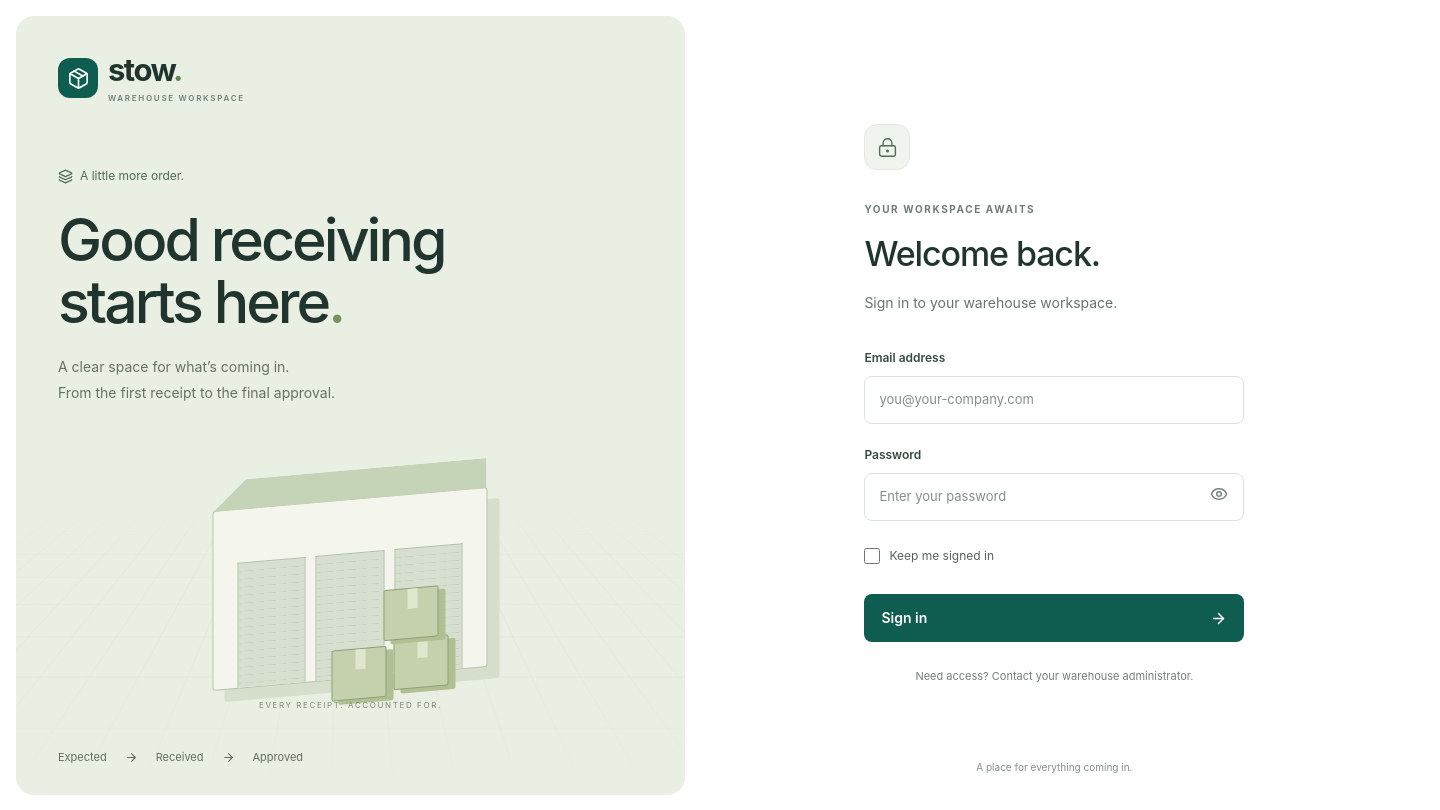
Test: login feedback and role protection › submits only the locked login payload and displays nested server errors
Type "operator@example.test" into the field labelled "Email address" at coordinates (1054, 400), box [864, 376, 1244, 424]
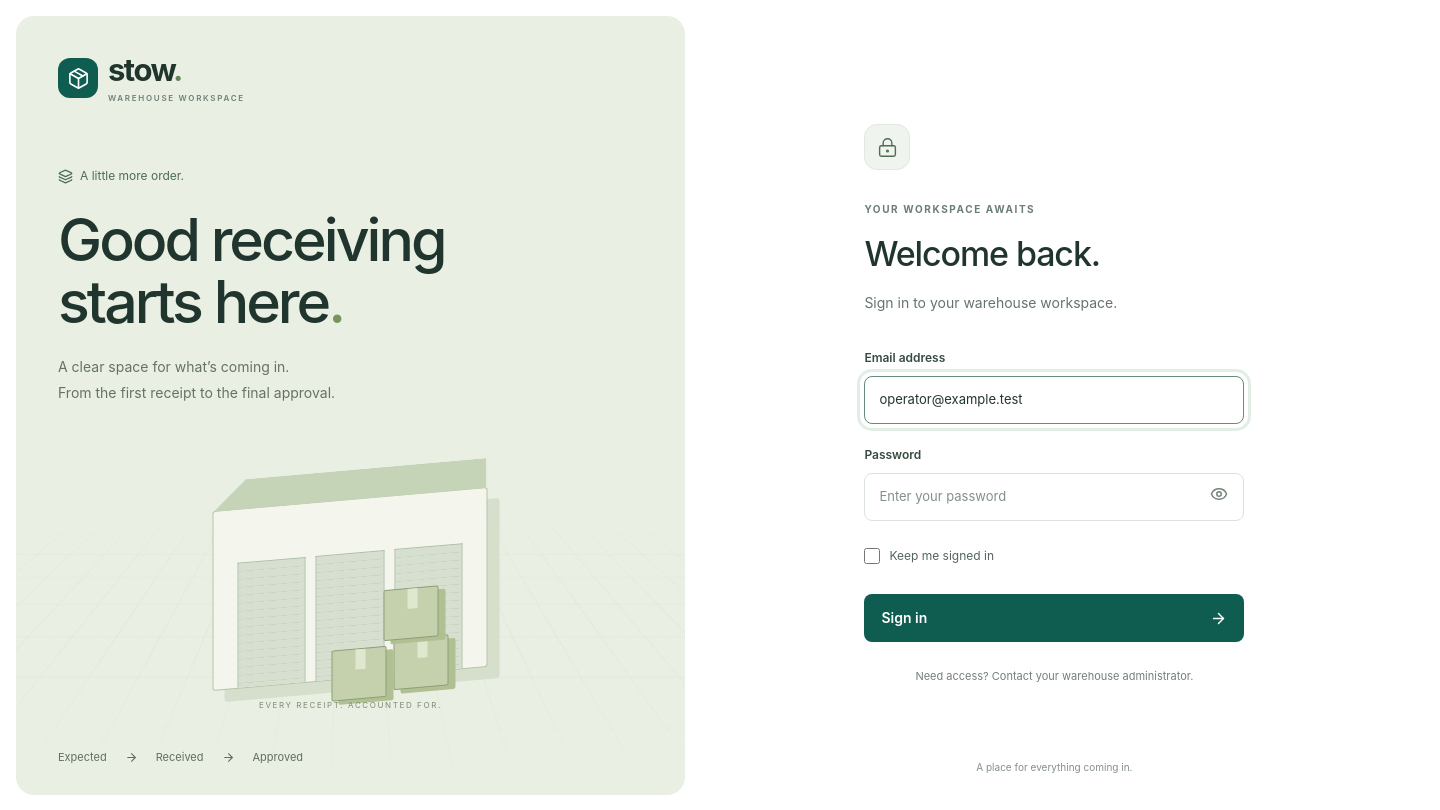
Type "example-input" into the password field labelled "Password" at coordinates (1054, 497), box [864, 473, 1244, 521]
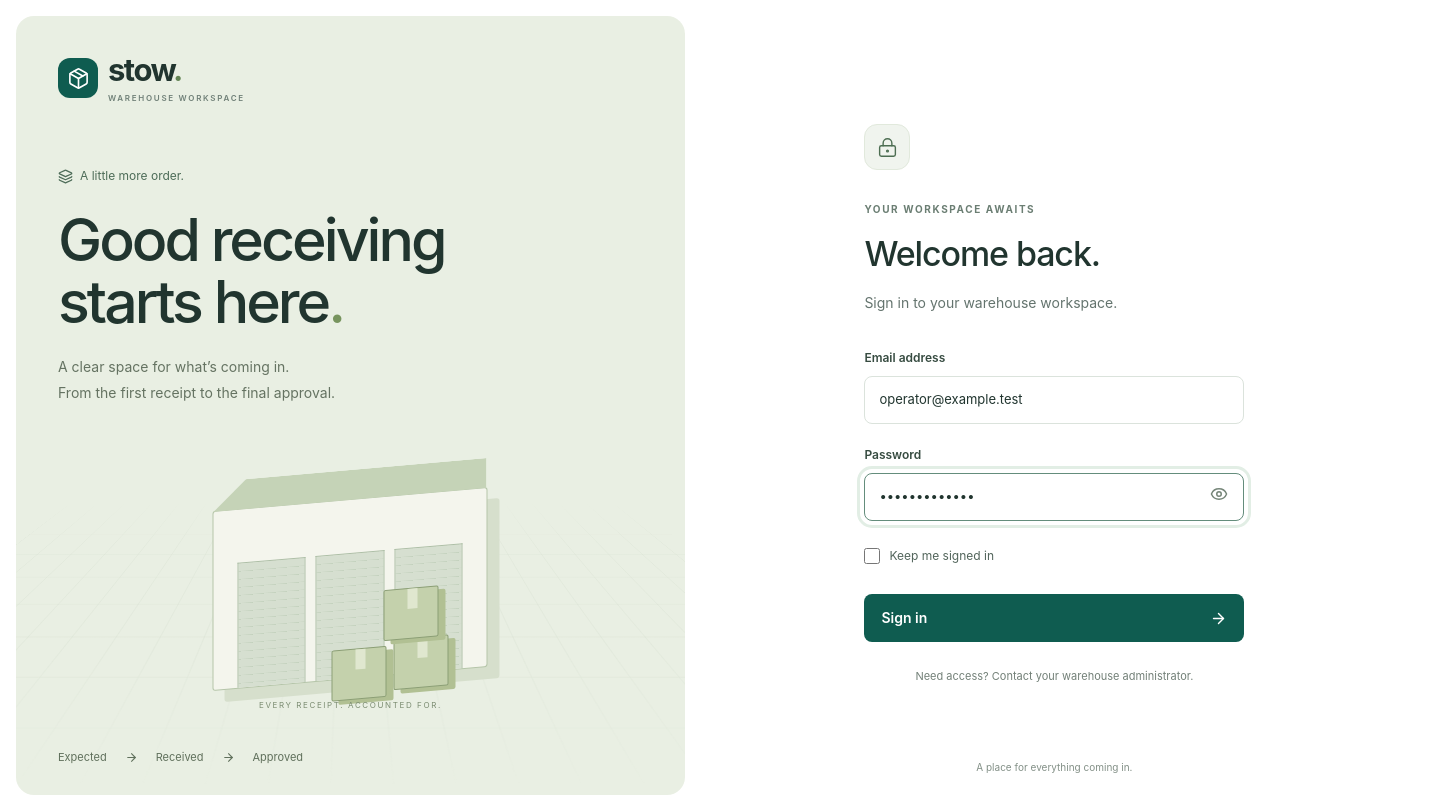
Click the checkbox labelled "Keep me signed in" at coordinates (872, 556), box [864, 548, 880, 564]
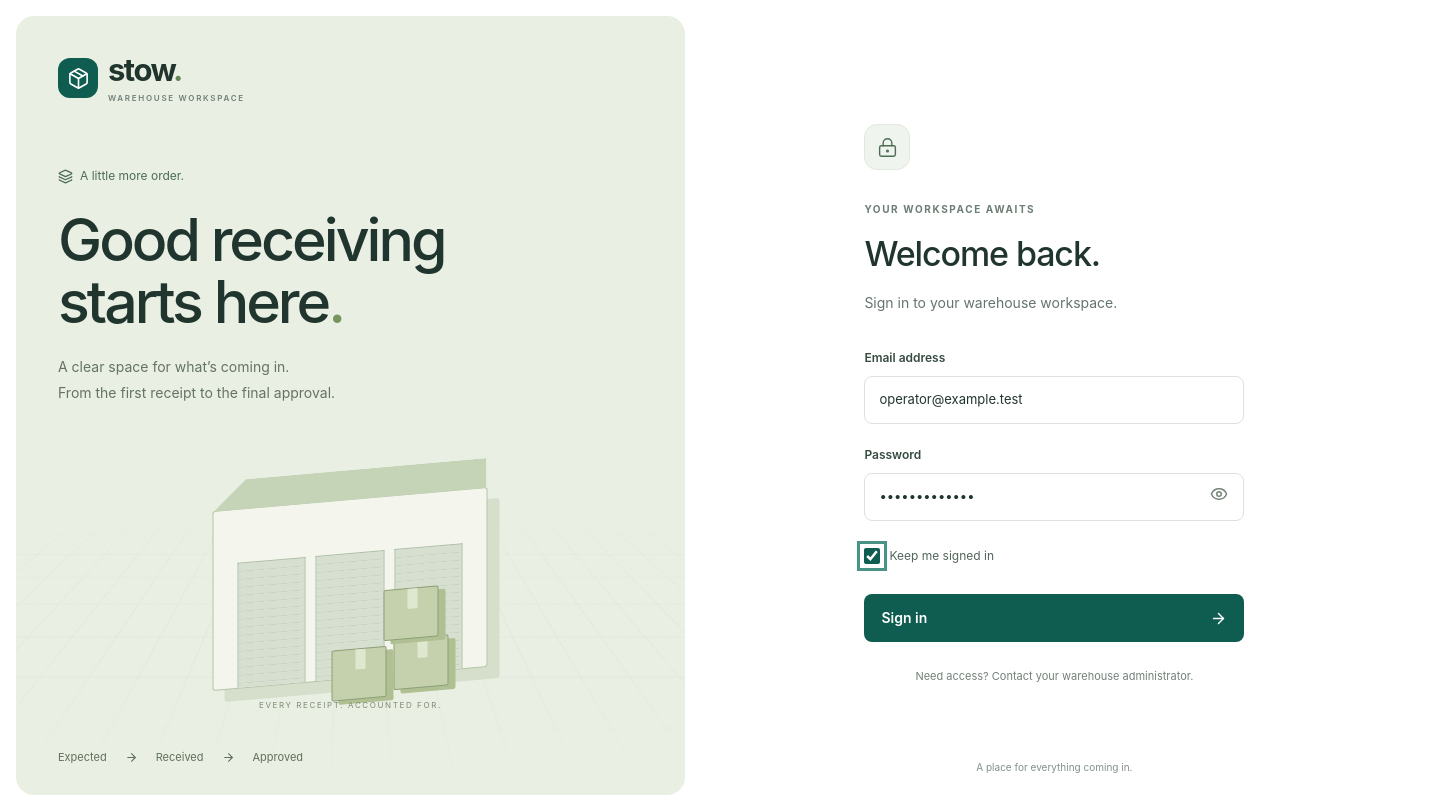
Click the button "Sign in" at coordinates (904, 618), box [864, 594, 1244, 642]
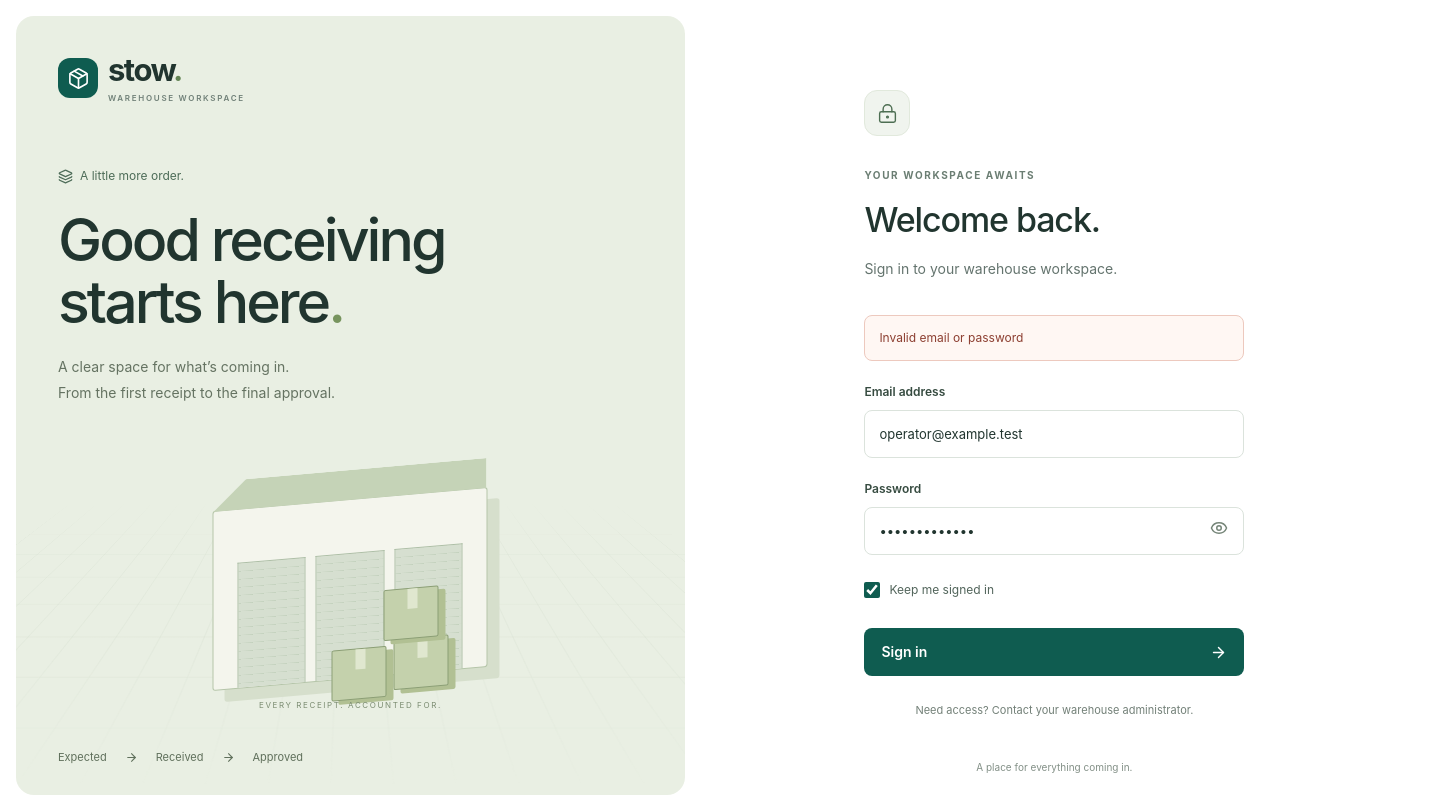
Result: the message reads "Invalid email or password" at [879, 330, 1023, 345]
